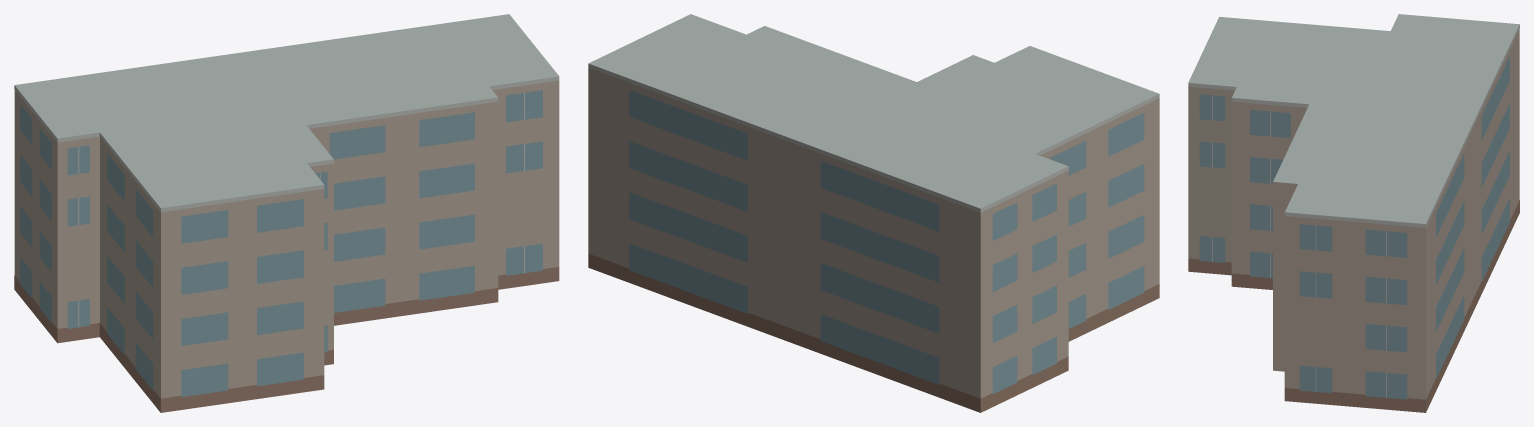
File: residential-dcc5cb5e-e493-497b-8276-d7cffe3f26cb.glb
3 views of the same model, side by side, from view 1: azimuth 30°, elevation 25°; view 2: azimuth 150°, elevation 25°; view 3: azimuth 270°, elevation 25° (orthographic). The views are drawn at different scales.
Parts seen in each view (by area): view 1: residential-dcc5cb5e-e493-497b-8276-d7cffe3f26cb.tmp; view 2: residential-dcc5cb5e-e493-497b-8276-d7cffe3f26cb.tmp; view 3: residential-dcc5cb5e-e493-497b-8276-d7cffe3f26cb.tmp.
Part boxes in pixels (box(x1,y1,x2,y2)): residential-dcc5cb5e-e493-497b-8276-d7cffe3f26cb.tmp: box(14, 14, 559, 412); residential-dcc5cb5e-e493-497b-8276-d7cffe3f26cb.tmp: box(588, 14, 1159, 412); residential-dcc5cb5e-e493-497b-8276-d7cffe3f26cb.tmp: box(1188, 14, 1519, 412).
Size of the model in its own units: 29.12 by 12.2 by 19.43.
